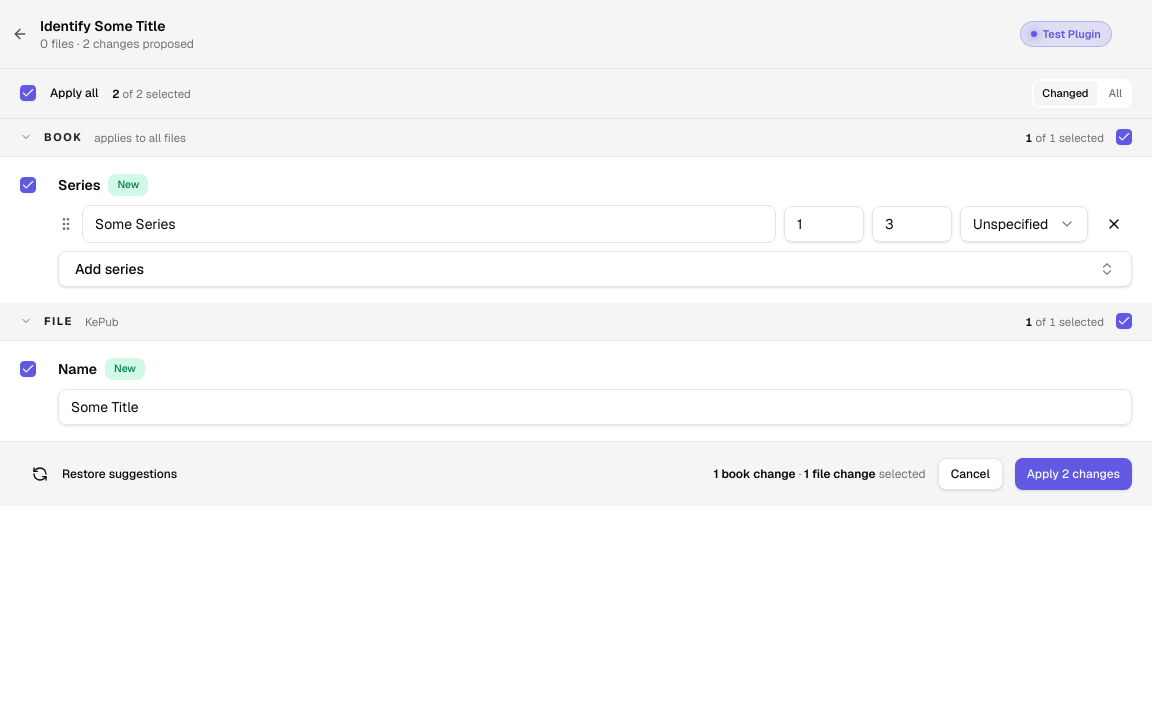
Scenario: IdentifyReviewForm component › tracks series end edits and restores the suggested range
Replace the text in the number field named "Series end" with "4" at (912, 224), box x1=872 y1=206 x2=952 y2=242
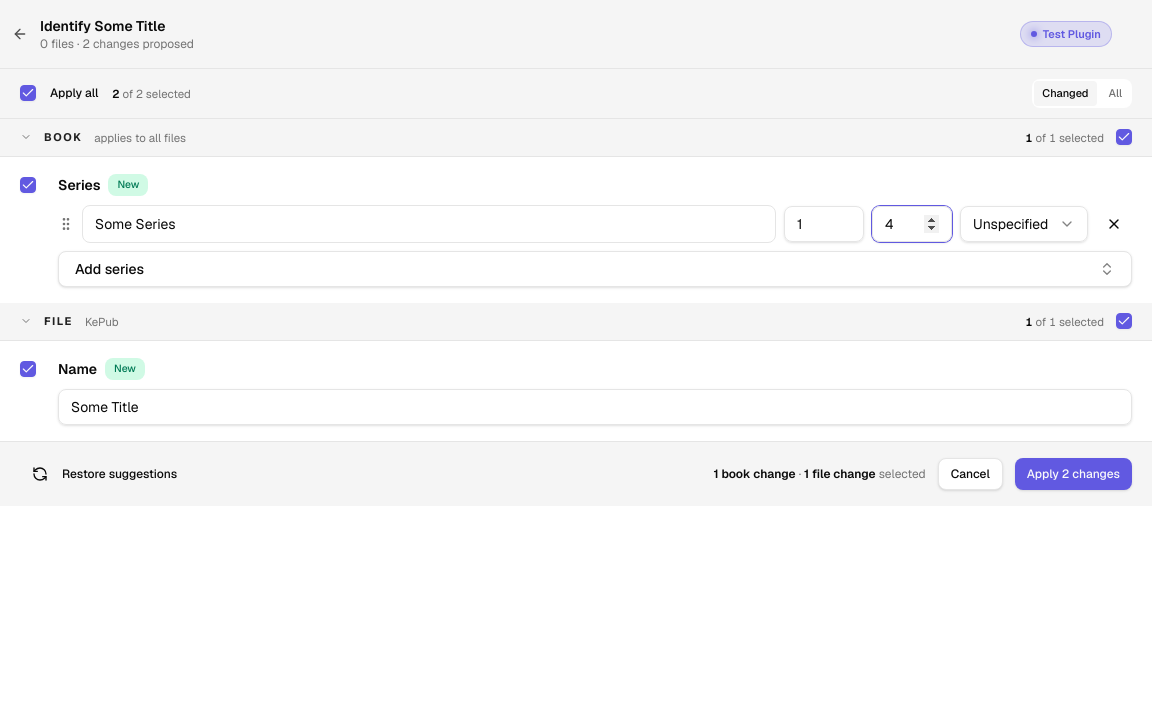
Click the button "Restore suggestions" at (105, 474), box x1=20 y1=458 x2=189 y2=490
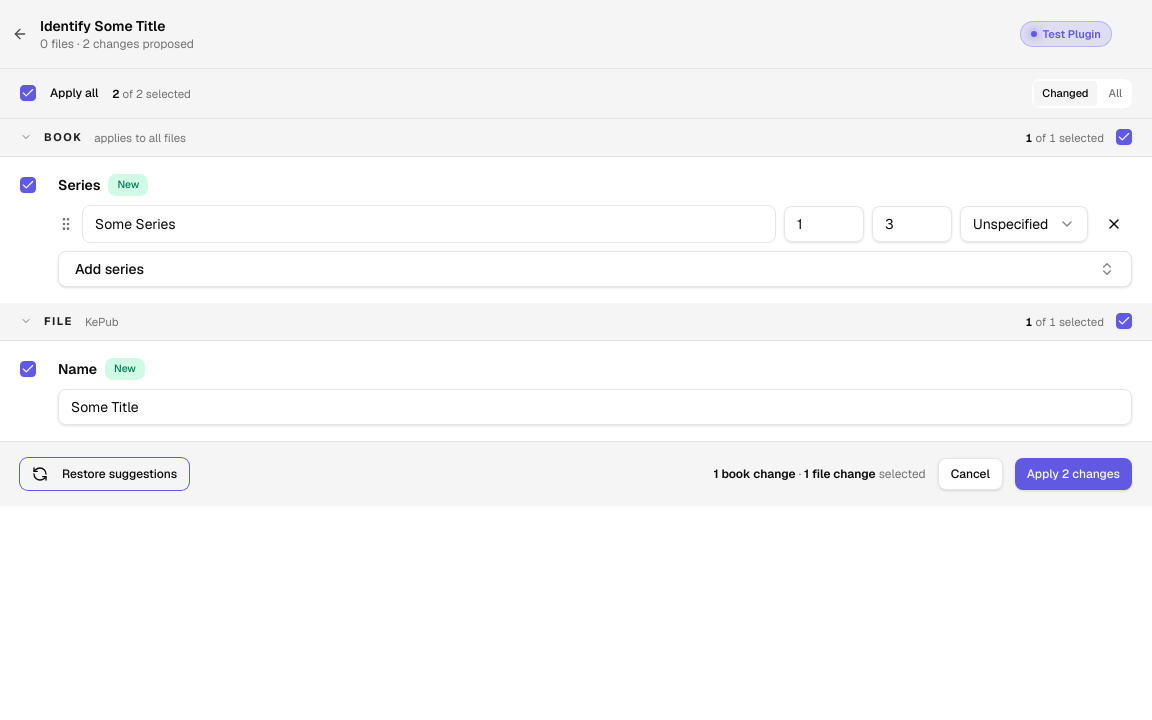
Check: the number field named "Series end" holds "3", box x1=872 y1=206 x2=952 y2=242
